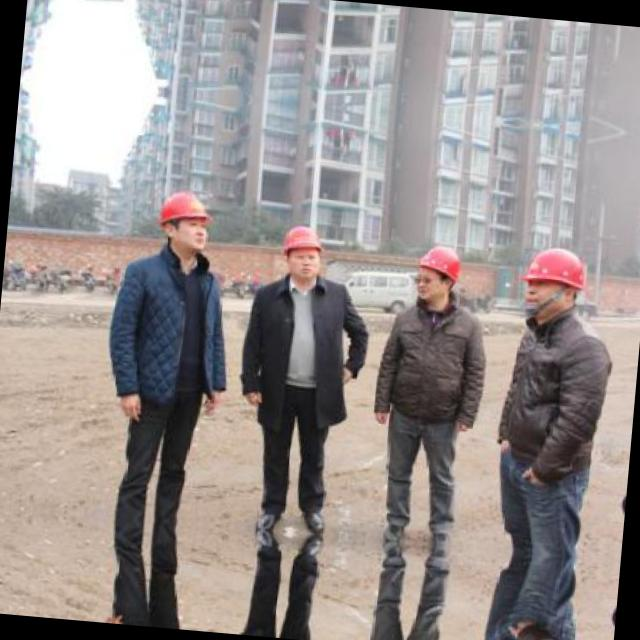helmet: (514, 242, 596, 328), (149, 182, 215, 258), (407, 238, 468, 311), (275, 220, 328, 284), (170, 0, 233, 8)
